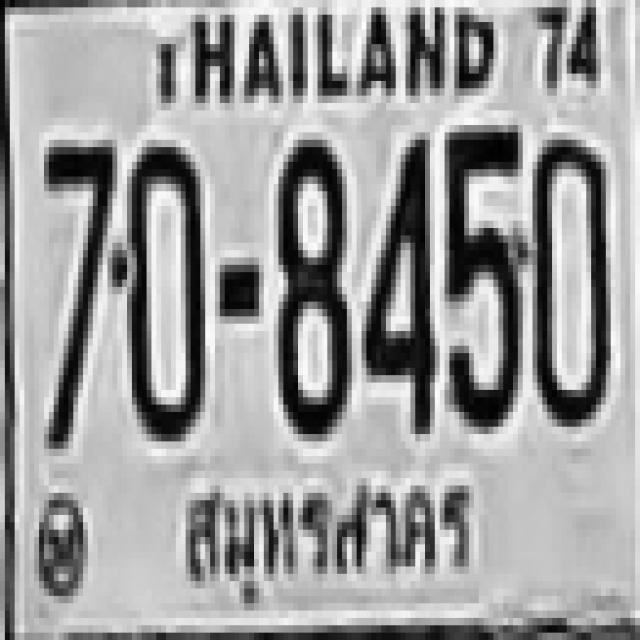0: (122, 140, 200, 434), (528, 133, 606, 420)
4: (361, 132, 430, 427)
5: (442, 121, 520, 423)
7: (39, 136, 112, 438), (39, 136, 112, 350)
8: (273, 136, 347, 430)
SamutSakhon: (170, 466, 490, 606)
